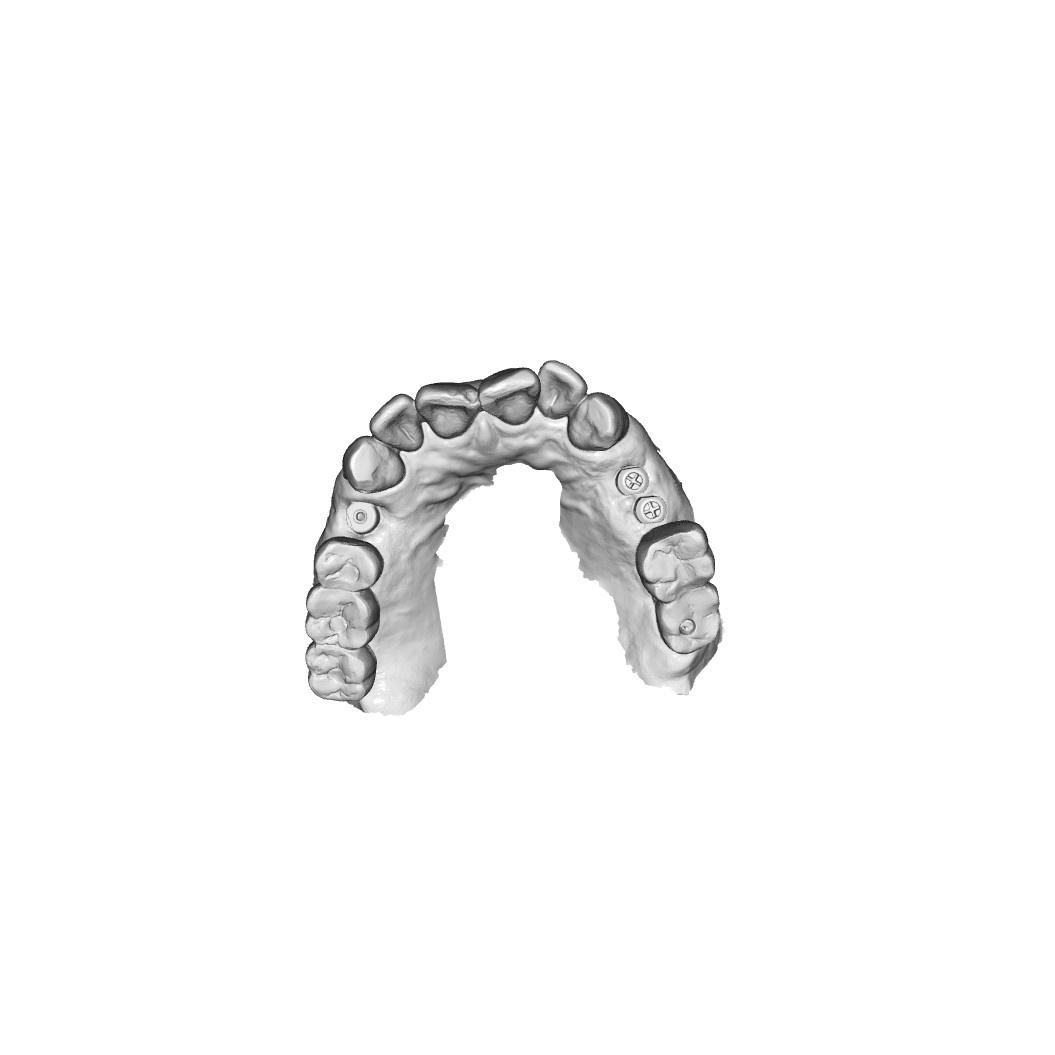canine: (342, 436, 411, 494), (568, 391, 629, 452)
implant: (342, 498, 377, 531)
implant_plus: (613, 466, 648, 503), (634, 492, 666, 524)
incisor: (413, 382, 482, 438), (476, 368, 540, 426), (528, 360, 587, 422), (369, 394, 425, 452)
molar: (638, 522, 718, 597), (656, 587, 722, 657), (302, 645, 376, 704), (309, 586, 370, 643)
premolar: (313, 536, 384, 594)
